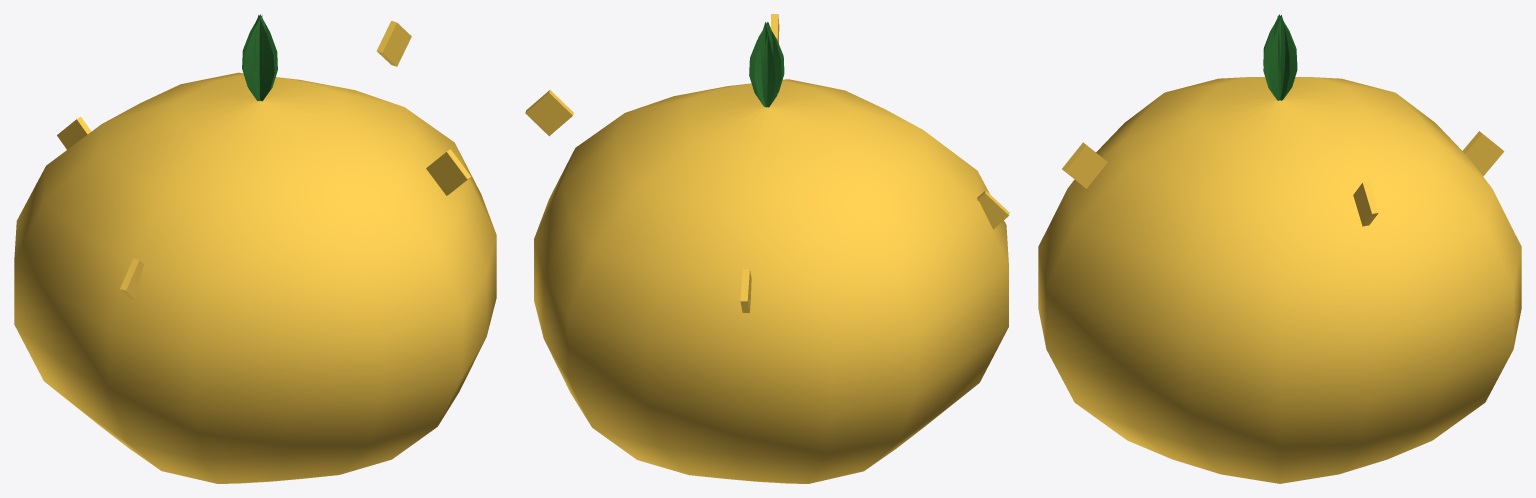
Rendered from fruit-tomato-gold.gltf.
The picture shows the model from 3 angles, left to right: view 1: azimuth 30°, elevation 25°; view 2: azimuth 150°, elevation 25°; view 3: azimuth 270°, elevation 25°; orthographic projection.
Bounding box in the file's own units: 0.3939 × 0.3964 × 0.3939.
